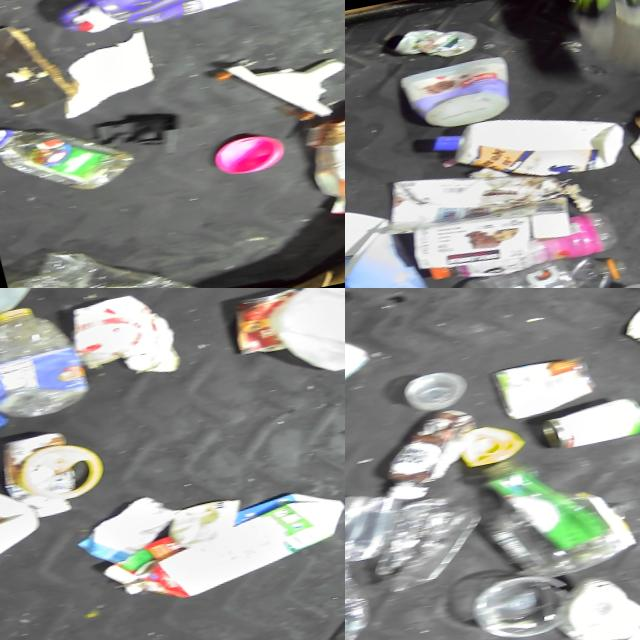can: (481, 350, 601, 424), (529, 393, 640, 454), (223, 288, 310, 359), (384, 16, 484, 70)
milk_jug: (258, 288, 345, 384)
non_white_jug: (33, 0, 336, 41)
plastic_bottle: (0, 100, 135, 209), (0, 298, 90, 428), (446, 248, 634, 288)
